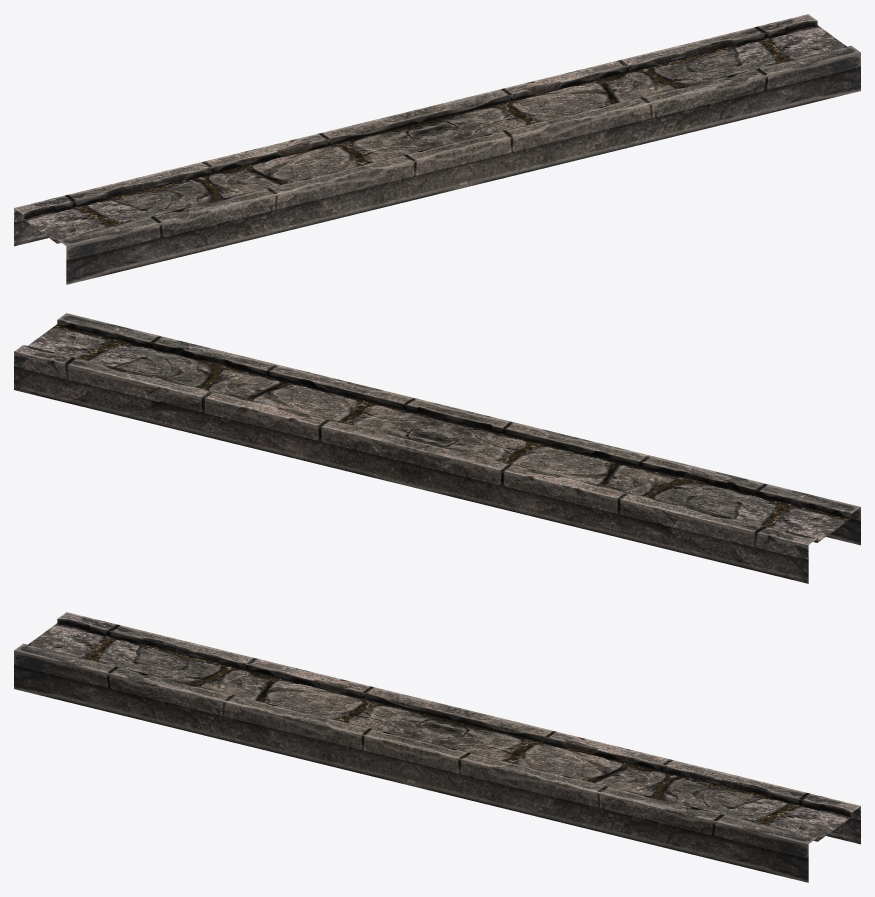
File: dun_stone_bar01_long.FBX
3 views of the same model, one above another, from view 1: azimuth 30°, elevation 25°; view 2: azimuth 150°, elevation 25°; view 3: azimuth 330°, elevation 25° (orthographic).
Parts seen in each view (by area): view 1: dun_stone_bar01_long; view 2: dun_stone_bar01_long; view 3: dun_stone_bar01_long.
Boxes of the visible parts, left/top/right/bottom form: dun_stone_bar01_long: left=14, top=14, right=860, bottom=284; dun_stone_bar01_long: left=14, top=313, right=860, bottom=583; dun_stone_bar01_long: left=14, top=612, right=860, bottom=882.
Size of the model in its own units: 594 by 27.53 by 68.01.
